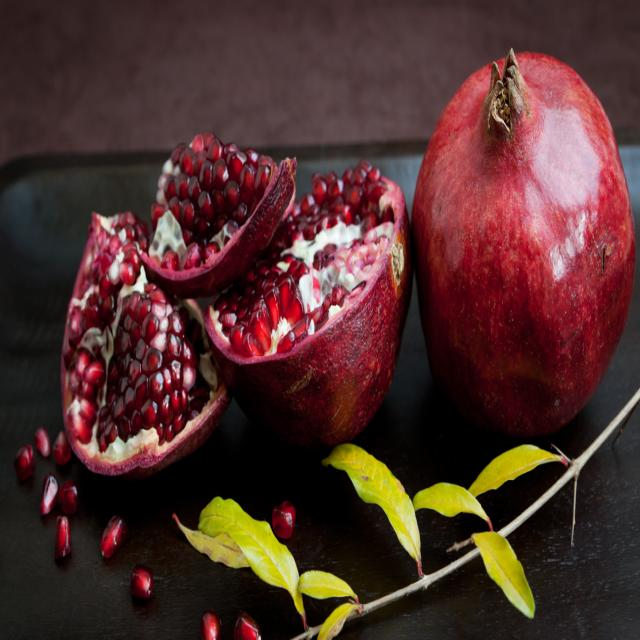apple: (412, 43, 636, 452)
